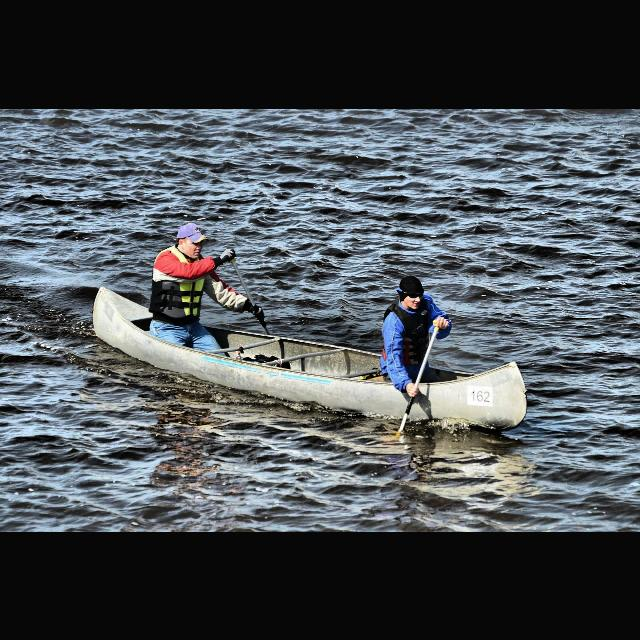kayak: (92, 285, 530, 433)
